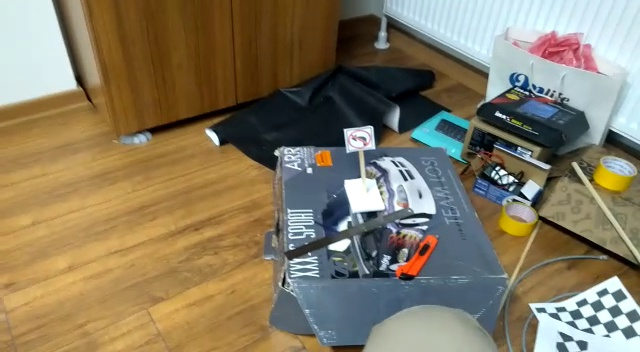sola_donulmez: (345, 126, 372, 152)
